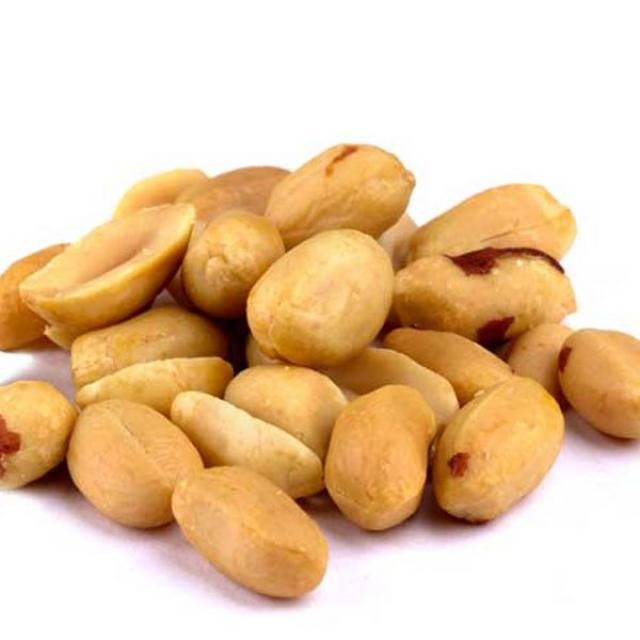Frutta secca: (1, 141, 635, 597)
